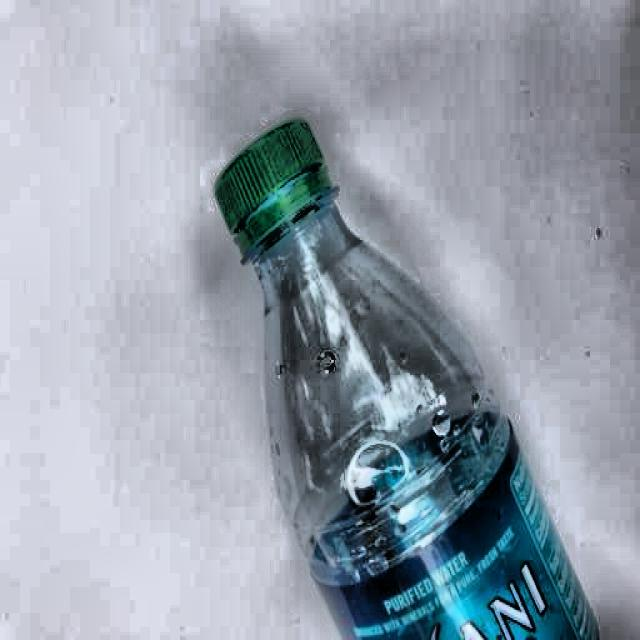plastic: (210, 115, 599, 640)
